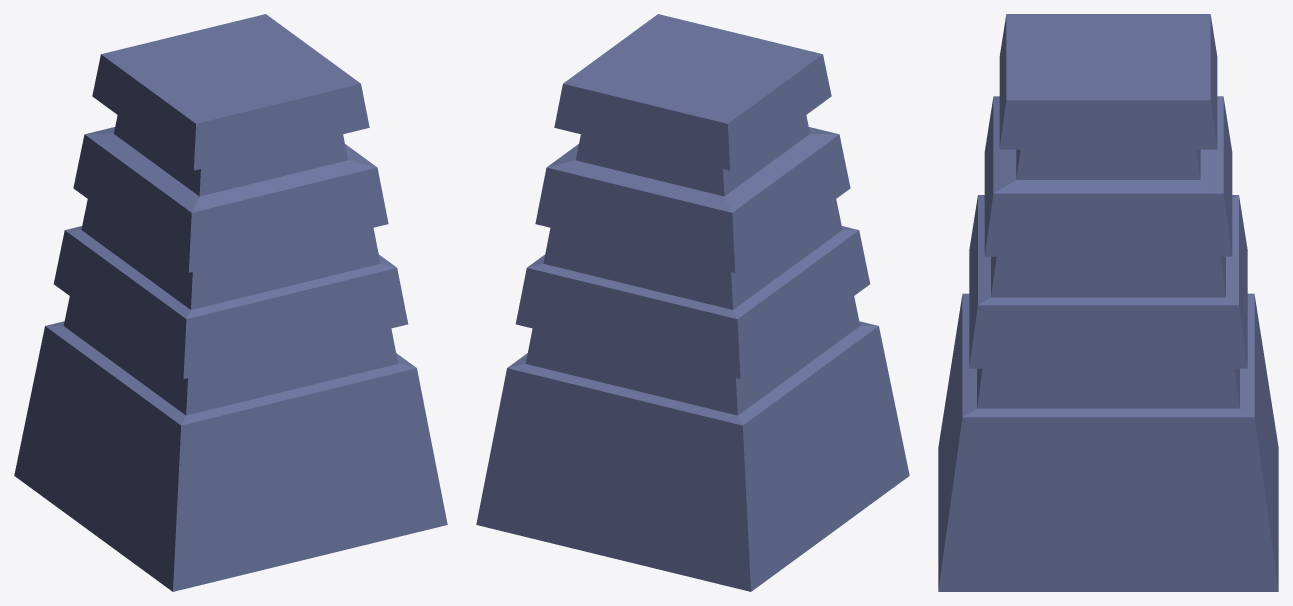
The model's file is column_small_4_1.fbx.
3 views of the same model, side by side, from view 1: azimuth 30°, elevation 25°; view 2: azimuth 150°, elevation 25°; view 3: azimuth 270°, elevation 25° (orthographic). The views are drawn at different scales.
Parts seen in each view (by area): view 1: column_small_4_1; view 2: column_small_4_1; view 3: column_small_4_1.
Part boxes in pixels (x1,y1,x2,y2): column_small_4_1: (14, 14, 447, 591); column_small_4_1: (476, 14, 909, 591); column_small_4_1: (938, 14, 1278, 591).
Bounding box in the file's own units: 2 × 3 × 2.
